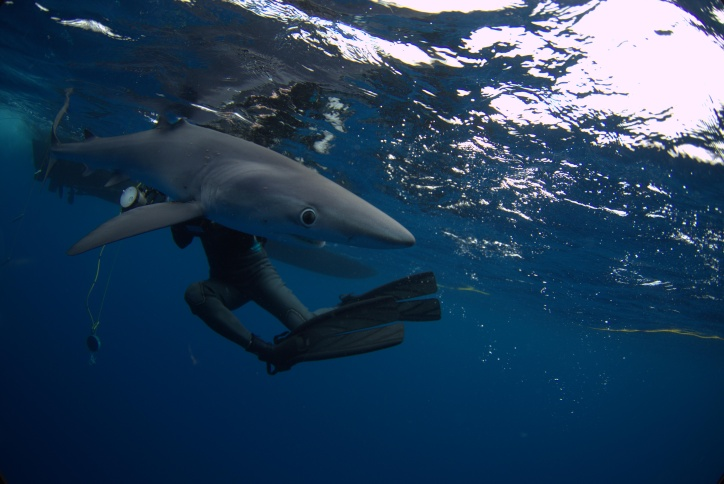Azul: (1, 77, 438, 296)
